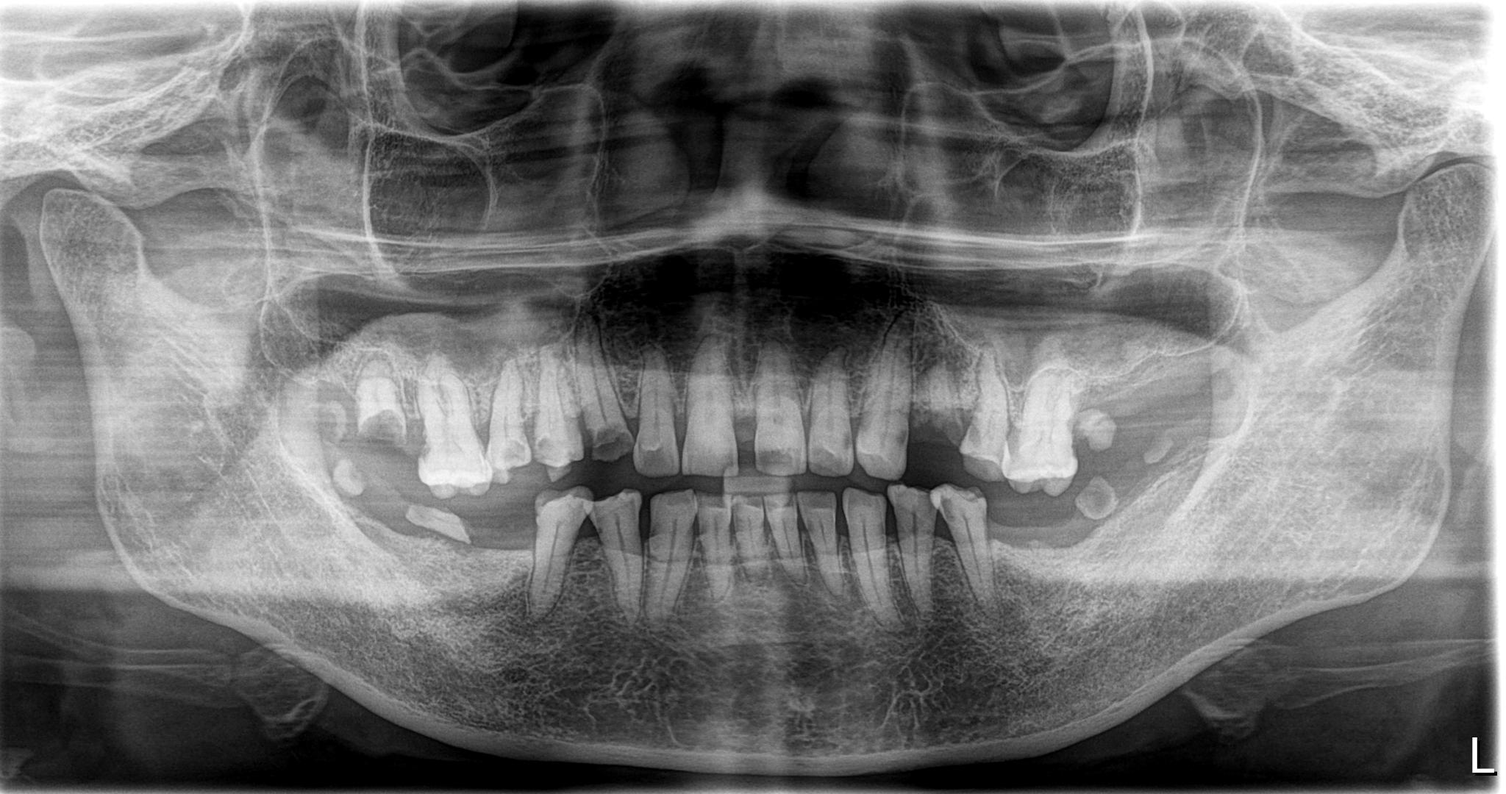Dental Caries: (908, 406, 961, 451), (577, 423, 640, 457)
Missing Tooth: (991, 507, 1077, 577), (1136, 366, 1196, 452), (1143, 483, 1204, 564), (493, 502, 535, 589)
Retained Root: (349, 366, 423, 464), (397, 498, 485, 576), (1070, 483, 1133, 571), (318, 456, 373, 536), (1074, 386, 1127, 468)
